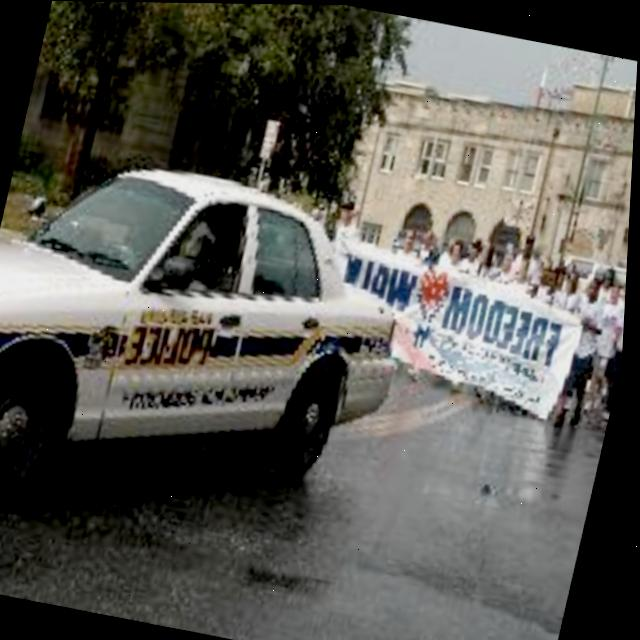emergency: (0, 154, 458, 562)
